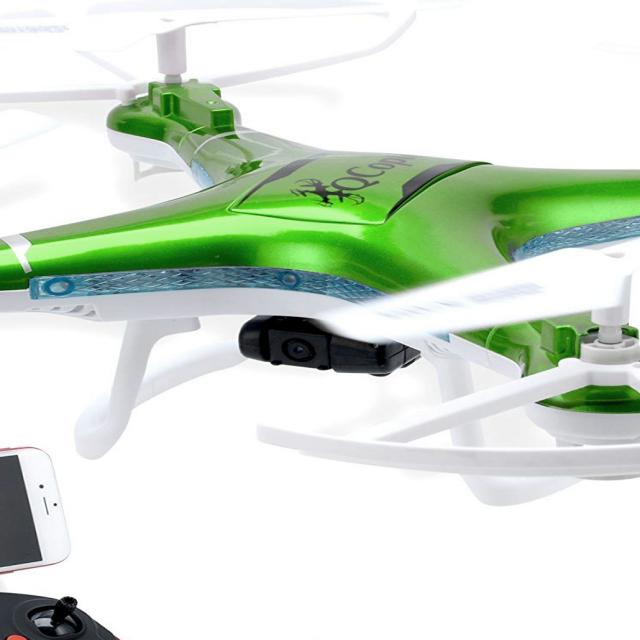drone: (0, 5, 640, 507)
